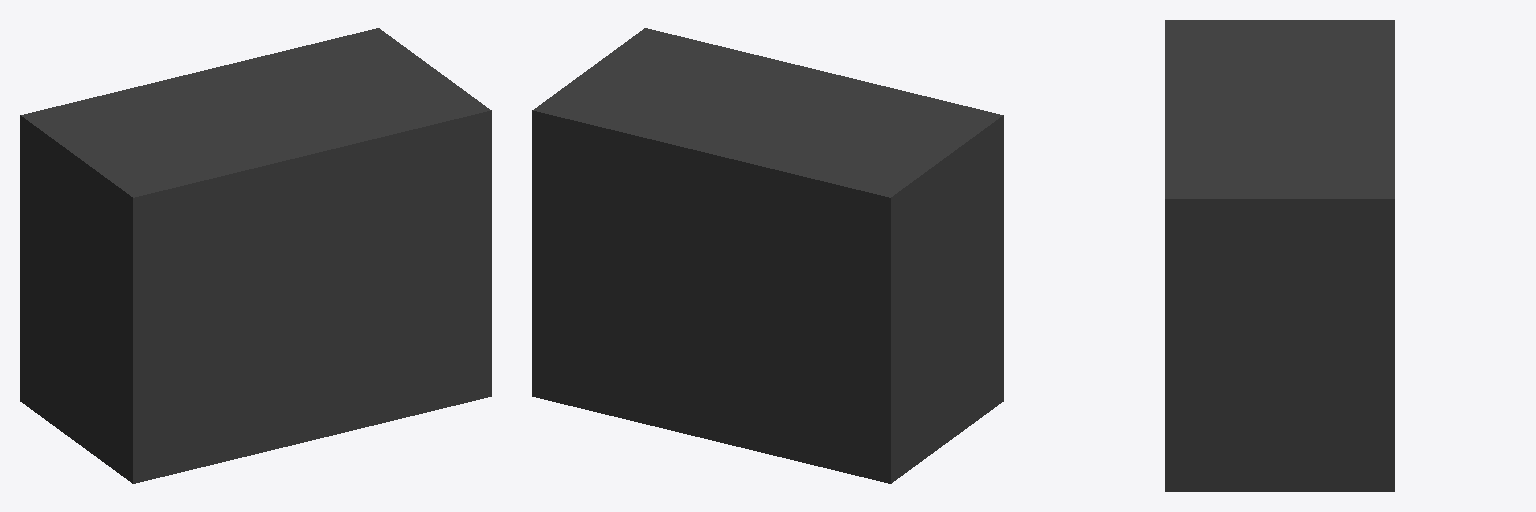
URDF robot description (box.urdf):
<?xml version="1.0" ?>
<robot name="box.urdf">
  <link name="baseLink">
    <contact>
      <lateral_friction value="1.0"/>
      <rolling_friction value="0.0001"/>
      <inertia_scaling value="3.0"/>
    </contact>
    <inertial>
      <origin rpy="0 0 0" xyz="0 0 0"/>
       <mass value="0.1"/>
       <inertia ixx="1" ixy="0" ixz="0" iyy="1" iyz="0" izz="1"/>
    </inertial>
    <visual>
      <origin rpy="0 0 0" xyz="0 0 0"/>
      <geometry>
        <!-- <box size="0.275 0.15 0.21"/> -->
        <mesh filename="box/box.obj" scale="0.275 0.15 0.21"/>
      </geometry>
      <material name="white">
        <color rgba="0.3 0.3 0.3 1"/>
      </material>
    </visual>
    <collision>
      <origin rpy="0 0 0" xyz="0 0 0"/>
      <geometry>
        <mesh filename="box/box.obj" scale="0.275 0.15 0.21"/>
	 	    <!-- <box size="0.275 0.15 0.21"/> -->
      </geometry>
    </collision>
  </link>
</robot>

--- Render facts (derived) ---
3 views of the same robot in one strip: view 1: azimuth 30°, elevation 25°; view 2: azimuth 150°, elevation 25°; view 3: azimuth 270°, elevation 25° (orthographic).
Robot: box.urdf — 1 links, 0 joints (none); root link baseLink; default pose: all joints at 0.
Visible links, largest first — view 1: baseLink; view 2: baseLink; view 3: baseLink.
Link boxes in pixels (x1,y1,x2,y2): baseLink: (20, 28, 491, 483); baseLink: (532, 28, 1003, 483); baseLink: (1165, 20, 1394, 491).
Bounding box of the posed robot: 0.275 × 0.15 × 0.21 m (x, y, z).
1 mesh visuals loaded from 1 distinct referenced files (1 OBJ).
